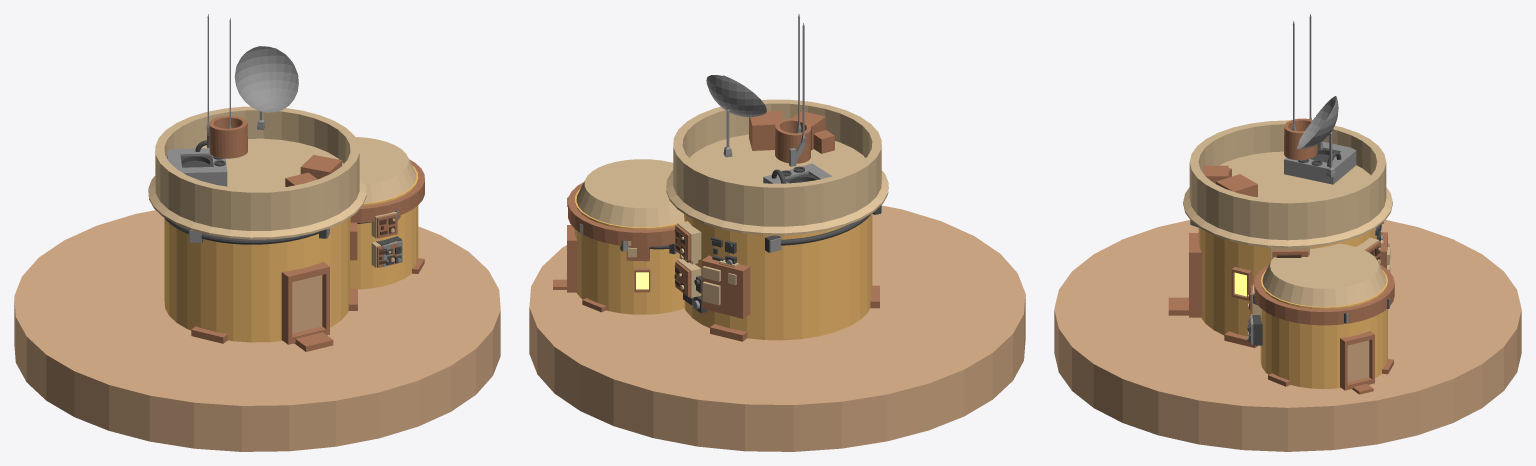
File: nomad_building_09.fbx
The picture shows the model from 3 angles, left to right: view 1: azimuth 30°, elevation 25°; view 2: azimuth 150°, elevation 25°; view 3: azimuth 270°, elevation 25°; orthographic projection. The views are drawn at different scales.
Visible parts, largest first — view 1: B09_M_Foundation_foundation, B09_M_Crown_RoofDeck_Ringwall, B09_M_Drum0, B09_M_Dish0_AntennaDish_Reflector, B09_A1_Drum0, B09_A1_Crown_TowerBody_RoofCap, B09_M_Door_Door_Frame, B09_M_Door_Door_Leaf, B09_M_Stack0_TowerBody_StackWide, B09_A1_Ring00_TowerTrim_BandTall, B09_M_Crown_RoofVent_Housing, B09_M_Pipe1 (+2 smaller); view 2: B09_M_Foundation_foundation, B09_M_Crown_RoofDeck_Ringwall, B09_M_Drum0, B09_A1_Drum0, B09_A1_Crown_TowerBody_RoofCap, B09_A1_Ring00_TowerTrim_BandTall, B09_M_Gear8_PanelBox_Body, B09_M_Dish0_AntennaDish_Reflector, B09_M_Stack0_TowerBody_StackWide, B09_M_Crown_RoofDeck_BlockLarge, B09_A1_Door_Door_Frame, B09_M_Mast0_AntennaMast_Offset (+3 smaller); view 3: B09_M_Foundation_foundation, B09_M_Crown_RoofDeck_Ringwall, B09_A1_Drum0, B09_A1_Crown_TowerBody_RoofCap, B09_M_Drum0, B09_A1_Ring00_TowerTrim_BandTall, B09_M_Crown_RoofVent_Housing, B09_M_Dish0_AntennaDish_Reflector, B09_A1_Door_Door_Frame, B09_M_Door_Door_Frame, B09_M_Stack0_TowerBody_StackWide, B09_A1_Door_Door_Leaf (+1 smaller).
Boxes of the visible parts, x1=… form: B09_M_Foundation_foundation: x1=14, y1=210, x2=500, y2=451; B09_M_Crown_RoofDeck_Ringwall: x1=148, y1=106, x2=366, y2=239; B09_M_Drum0: x1=164, y1=217, x2=350, y2=342; B09_M_Dish0_AntennaDish_Reflector: x1=234, y1=46, x2=298, y2=112; B09_A1_Drum0: x1=350, y1=165, x2=418, y2=289; B09_A1_Crown_TowerBody_RoofCap: x1=355, y1=137, x2=416, y2=203; B09_M_Door_Door_Frame: x1=281, y1=262, x2=329, y2=344; B09_M_Door_Door_Leaf: x1=292, y1=275, x2=322, y2=333; B09_M_Stack0_TowerBody_StackWide: x1=209, y1=116, x2=247, y2=158; B09_A1_Ring00_TowerTrim_BandTall: x1=350, y1=159, x2=424, y2=222; B09_M_Crown_RoofVent_Housing: x1=167, y1=148, x2=227, y2=186; B09_M_Pipe1: x1=164, y1=218, x2=318, y2=244; B09_M_Foundation_foundation: x1=529, y1=205, x2=1025, y2=451; B09_M_Crown_RoofDeck_Ringwall: x1=666, y1=99, x2=888, y2=235; B09_M_Drum0: x1=684, y1=213, x2=872, y2=340; B09_A1_Drum0: x1=574, y1=188, x2=684, y2=314; B09_A1_Crown_TowerBody_RoofCap: x1=576, y1=159, x2=684, y2=227; B09_A1_Ring00_TowerTrim_BandTall: x1=568, y1=182, x2=675, y2=246; B09_M_Gear8_PanelBox_Body: x1=701, y1=255, x2=750, y2=318; B09_M_Dish0_AntennaDish_Reflector: x1=706, y1=75, x2=766, y2=117; B09_M_Stack0_TowerBody_StackWide: x1=775, y1=118, x2=811, y2=163; B09_M_Crown_RoofDeck_BlockLarge: x1=749, y1=110, x2=782, y2=150; B09_A1_Door_Door_Frame: x1=567, y1=225, x2=577, y2=292; B09_M_Mast0_AntennaMast_Offset: x1=789, y1=23, x2=805, y2=166; B09_M_Foundation_foundation: x1=1054, y1=220, x2=1521, y2=451; B09_M_Crown_RoofDeck_Ringwall: x1=1183, y1=120, x2=1392, y2=248; B09_A1_Drum0: x1=1260, y1=270, x2=1387, y2=388; B09_A1_Crown_TowerBody_RoofCap: x1=1262, y1=243, x2=1386, y2=306; B09_M_Drum0: x1=1198, y1=228, x2=1376, y2=336; B09_A1_Ring00_TowerTrim_BandTall: x1=1254, y1=264, x2=1394, y2=325; B09_M_Crown_RoofVent_Housing: x1=1284, y1=141, x2=1356, y2=184; B09_M_Dish0_AntennaDish_Reflector: x1=1297, y1=96, x2=1338, y2=149; B09_A1_Door_Door_Frame: x1=1340, y1=331, x2=1374, y2=390; B09_M_Door_Door_Frame: x1=1189, y1=233, x2=1201, y2=317; B09_M_Stack0_TowerBody_StackWide: x1=1284, y1=118, x2=1317, y2=160; B09_A1_Door_Door_Leaf: x1=1347, y1=340, x2=1369, y2=382.
Bounding box in the file's own units: 500 × 380 × 500.
